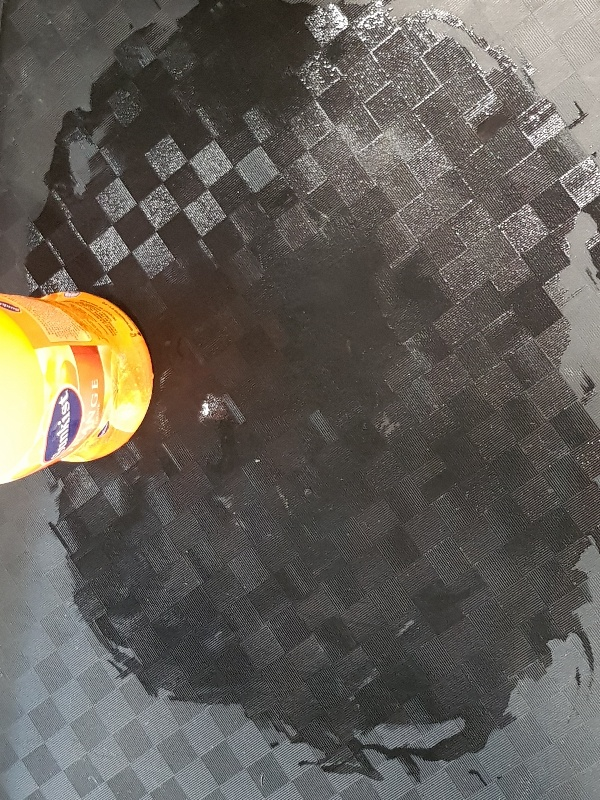Sunkist Orange Juice Drink: (1, 289, 155, 485)
